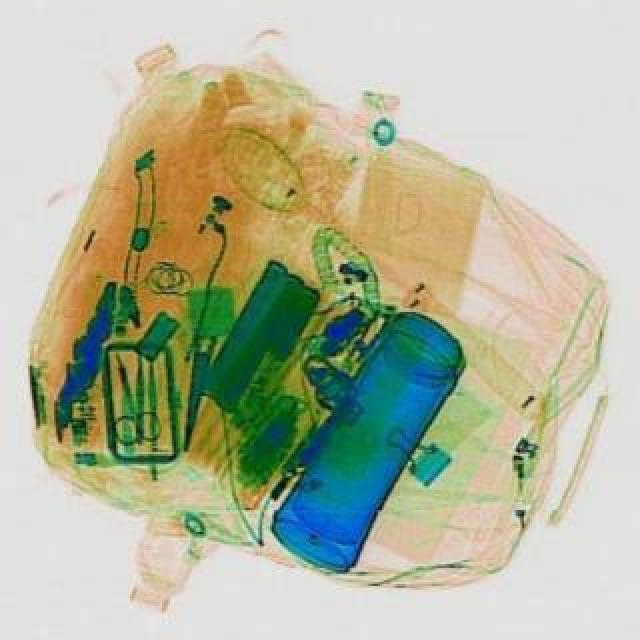pliers: (88, 348, 162, 446)
